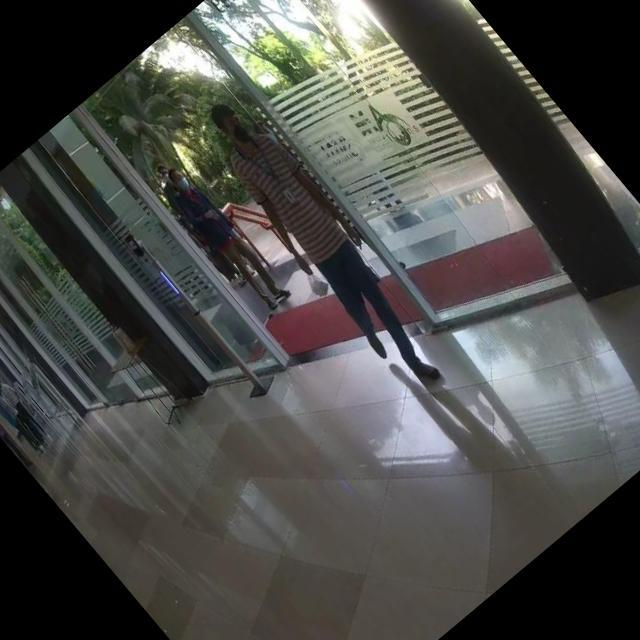person: (187, 90, 466, 402), (154, 159, 295, 317)
